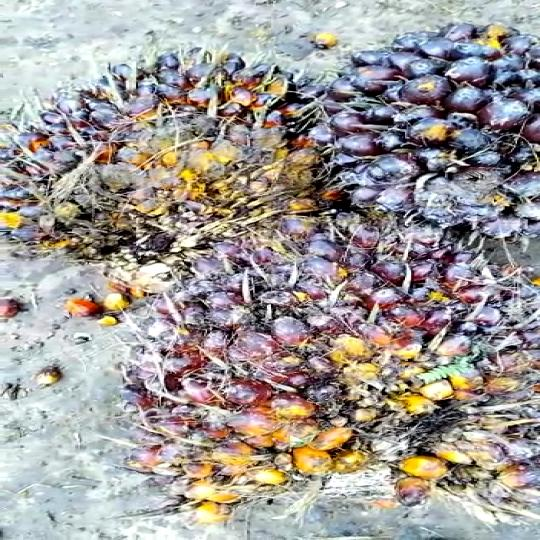kurang masak: (123, 210, 540, 528), (0, 41, 336, 247), (305, 9, 540, 226)
